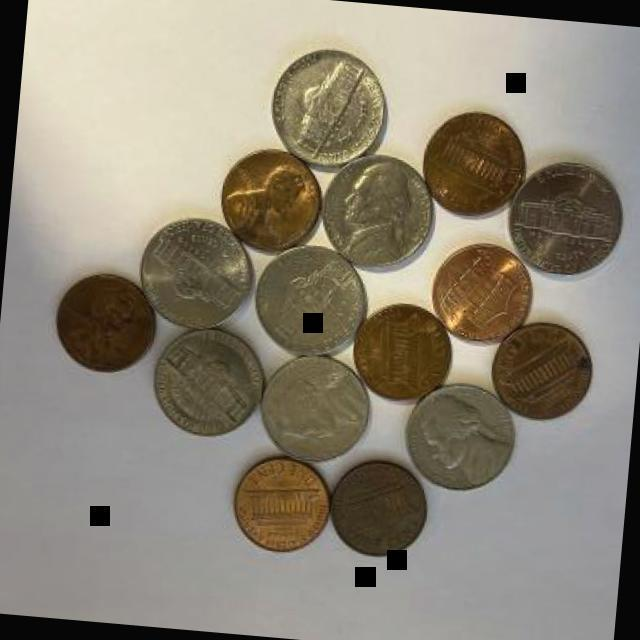Nickel: (246, 236, 378, 364), (501, 154, 628, 286), (314, 146, 441, 276), (266, 42, 394, 170), (252, 346, 381, 470), (396, 372, 522, 496), (136, 211, 260, 333), (148, 322, 267, 442)
Penny: (416, 103, 532, 226), (214, 146, 328, 258), (488, 314, 600, 428), (427, 238, 541, 350), (47, 264, 160, 374), (224, 452, 335, 557), (352, 298, 456, 406), (328, 454, 432, 559)
